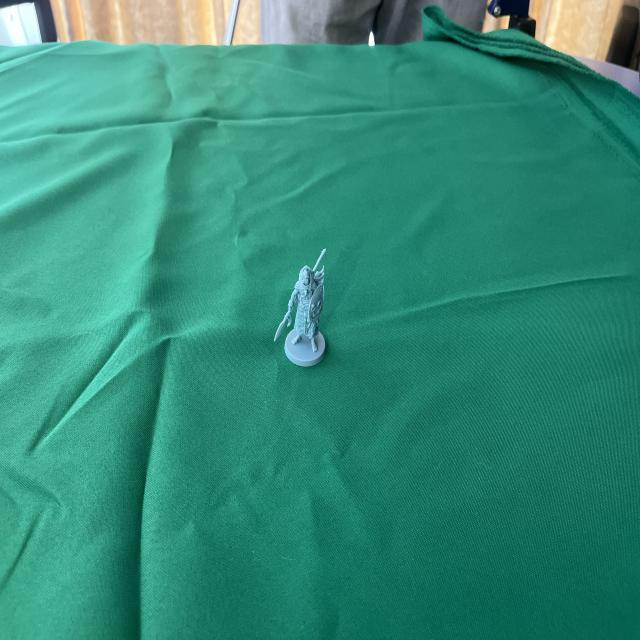isis_follower: (275, 244, 333, 368)
